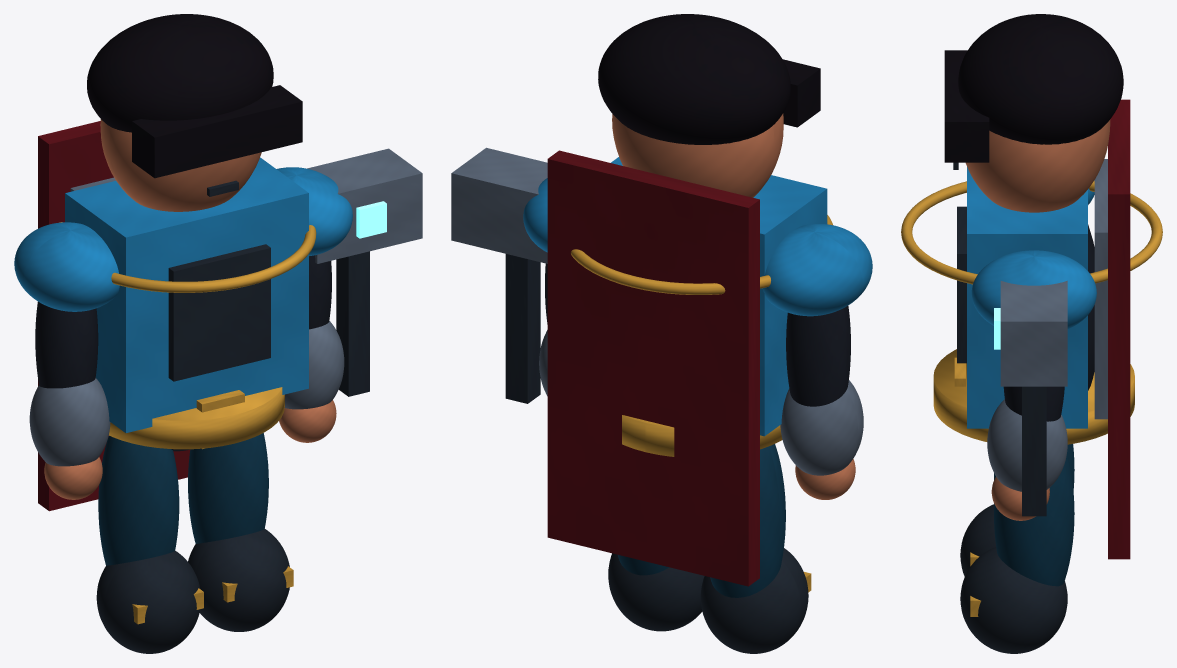
File: Advanced.glb
The picture shows the model from 3 angles, left to right: view 1: azimuth 30°, elevation 25°; view 2: azimuth 150°, elevation 25°; view 3: azimuth 270°, elevation 25°; orthographic projection. The views are drawn at different scales.
Parts seen in each view (by area): view 1: ChestPlate, Hair, ChestInset, HairFringe, Leg, Boot, Boot.001, Leg.001, Shoulder, HammerHead, Cape, Head (+12 smaller); view 2: Cape, Hair, HammerHead, Shoulder, Head, ChestPlate, Boot, Arm, Gauntlet, HammerHandle, Boot.001, Leg (+5 smaller); view 3: Hair, ChestPlate, Cape, Head, Boot.001, HammerHead, Leg.001, Shoulder.001, Gauntlet.001, HairFringe, WaistGuard, BackArmor (+7 smaller).
Boxes of the visible parts, left/top/right/bottom form: ChestPlate: left=65, top=157, right=308, bottom=432; Hair: left=87, top=14, right=273, bottom=132; ChestInset: left=168, top=244, right=270, bottom=381; HairFringe: left=132, top=85, right=302, bottom=178; Leg: left=98, top=435, right=179, bottom=565; Boot: left=96, top=550, right=200, bottom=653; Boot.001: left=188, top=529, right=289, bottom=631; Leg.001: left=188, top=433, right=268, bottom=543; Shoulder: left=14, top=222, right=119, bottom=311; HammerHead: left=307, top=148, right=422, bottom=263; Cape: left=38, top=121, right=190, bottom=511; Head: left=100, top=119, right=261, bottom=211; Cape: left=547, top=150, right=759, bottom=586; Hair: left=598, top=14, right=790, bottom=144; HammerHead: left=451, top=147, right=547, bottom=263; Shoulder: left=762, top=224, right=872, bottom=316; Head: left=612, top=113, right=783, bottom=197; ChestPlate: left=611, top=157, right=827, bottom=436; Boot: left=700, top=548, right=808, bottom=653; Arm: left=786, top=306, right=850, bottom=406; Gauntlet: left=780, top=380, right=863, bottom=475; HammerHandle: left=505, top=254, right=540, bottom=403; Boot.001: left=608, top=553, right=704, bottom=631; Leg: left=710, top=444, right=785, bottom=597; Hair: left=958, top=14, right=1123, bottom=144; ChestPlate: left=967, top=167, right=1087, bottom=428; Cape: left=1108, top=99, right=1130, bottom=559; Head: left=965, top=119, right=1110, bottom=212; Boot.001: left=960, top=547, right=1067, bottom=653; HammerHead: left=1000, top=280, right=1067, bottom=386; Leg.001: left=994, top=454, right=1074, bottom=586; Shoulder.001: left=971, top=250, right=1096, bottom=328; Gauntlet.001: left=987, top=399, right=1067, bottom=491; HairFringe: left=944, top=50, right=989, bottom=162; WaistGuard: left=933, top=349, right=1134, bottom=444; BackArmor: left=1094, top=159, right=1107, bottom=419.
Bounding box in the file's own units: 1.96 × 2.96 × 1.17.
12 materials, 9 textured.
